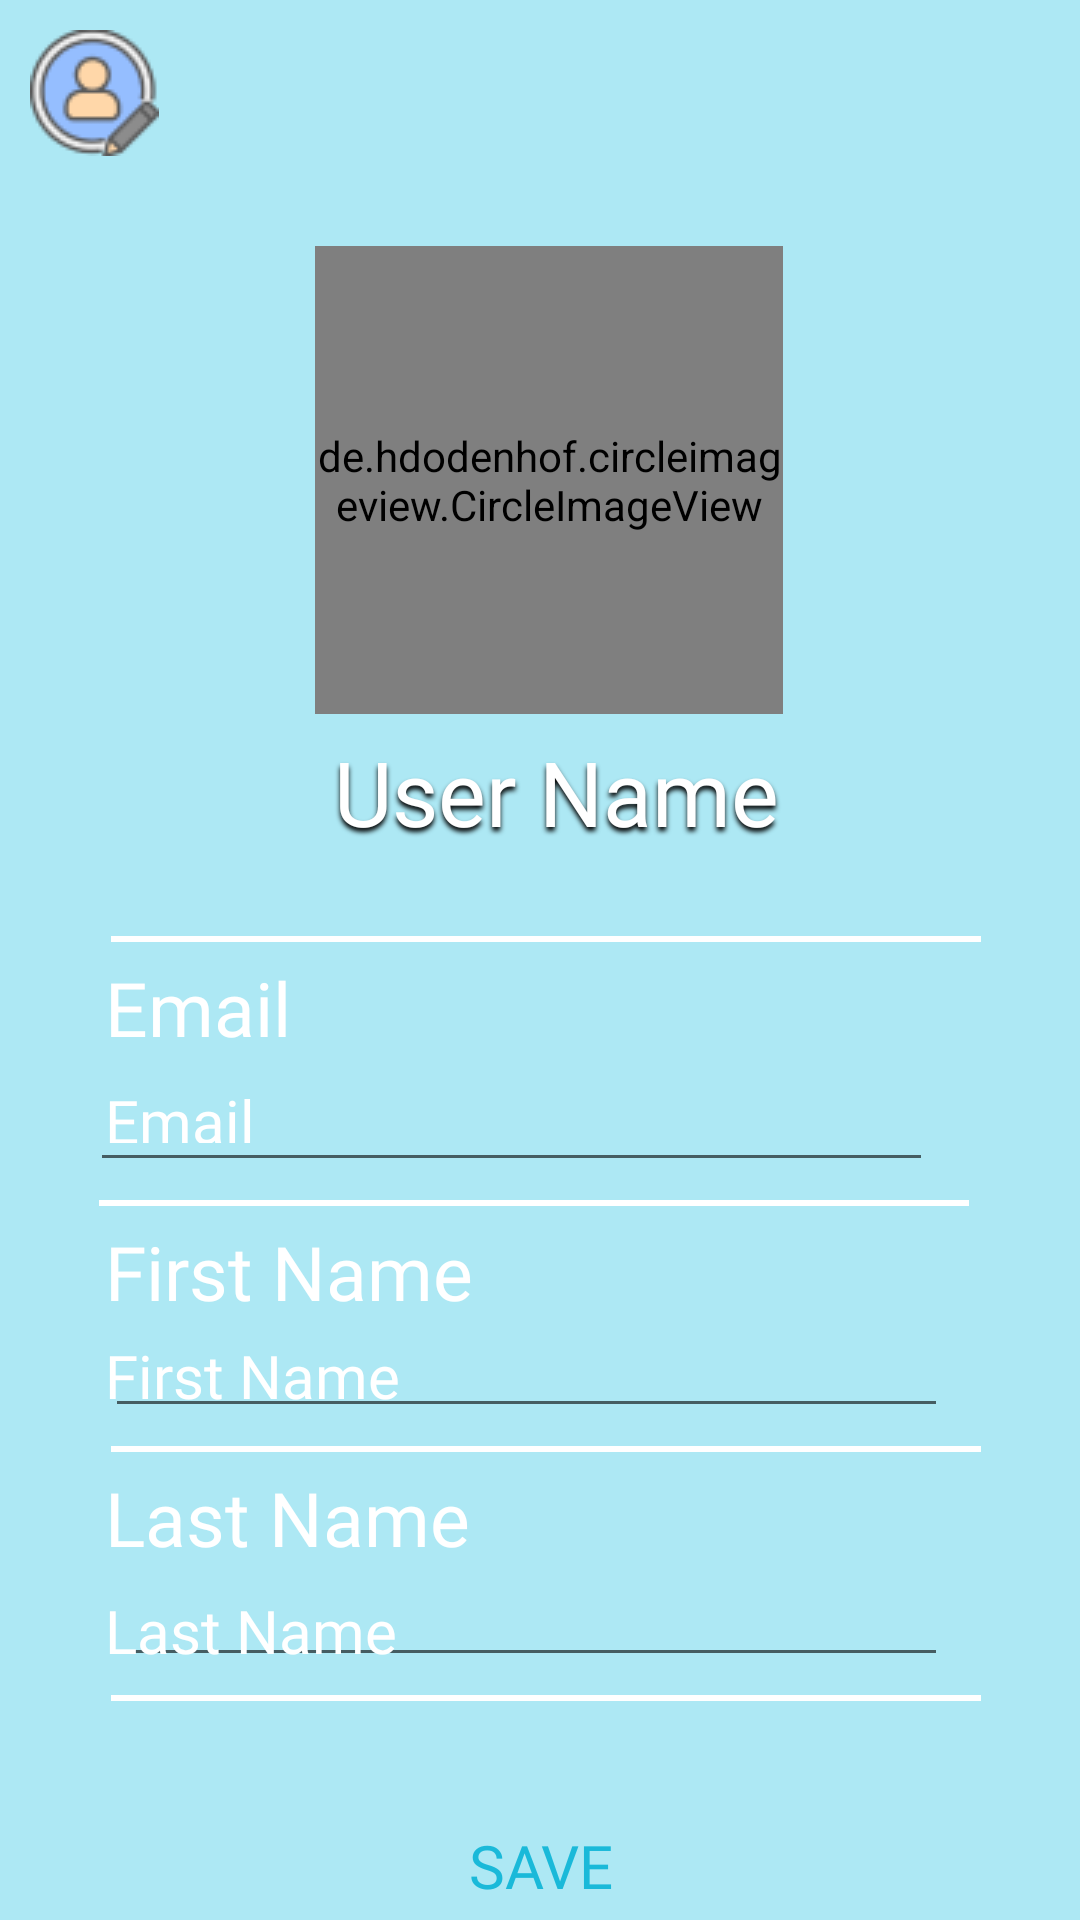

Icons on this 1080px×1920px Android screen, each with the point to tap as (x,y):
edit profile: (94,93)
